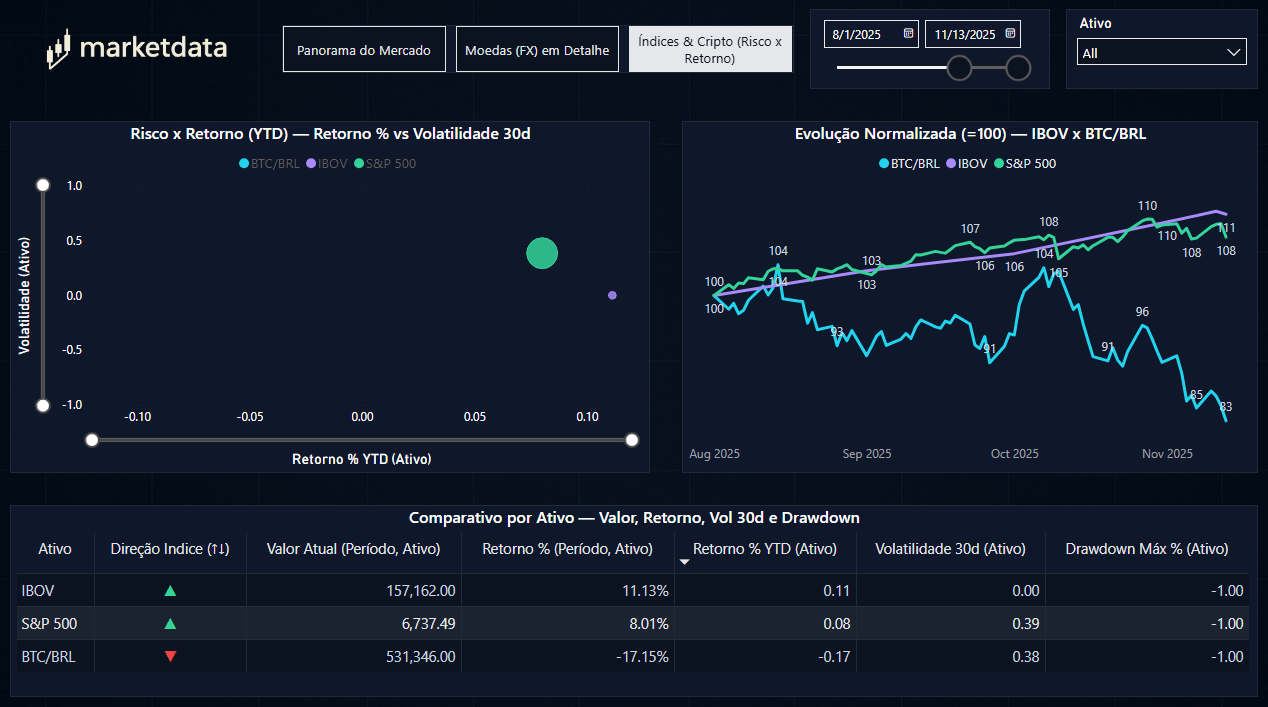

The page's visual inventory and layout, read from the dashboard file:
{"tool":"powerbi","page":{"name":"Índices & Cripto (Risco x Retorno)","canvas":[1280,720],"ordinal":2},"visuals":[{"type":"scatterChart","fields":{"X":["_Medidas.Retorno % YTD (Ativo)"],"Y":["_Medidas.Volatilidade 30d (Ativo)"],"Series":["dAtivo2.Ativo"],"Size":["_Medidas.Volume (p/Scatter)"]},"box":[94.3,156.1,448.7,279.6],"z":0}]}

Visuals, with their boxes in screenshot pixels (x1, y1, x2, y2), scaled from the page's 1280x720 canvas onto the 1268x707 screenshot:
scatterChart - _Medidas.Retorno % YTD (Ativo) x _Medidas.Volatilidade 30d (Ativo): box=[93, 153, 538, 428]
